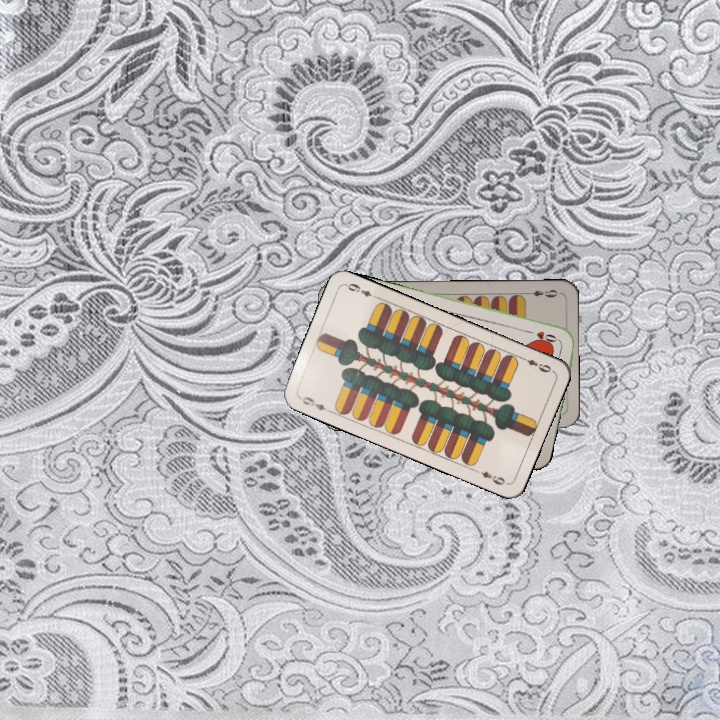E9: (296, 392, 334, 415), (517, 353, 554, 375), (521, 285, 560, 300)
HO: (522, 326, 562, 345)
